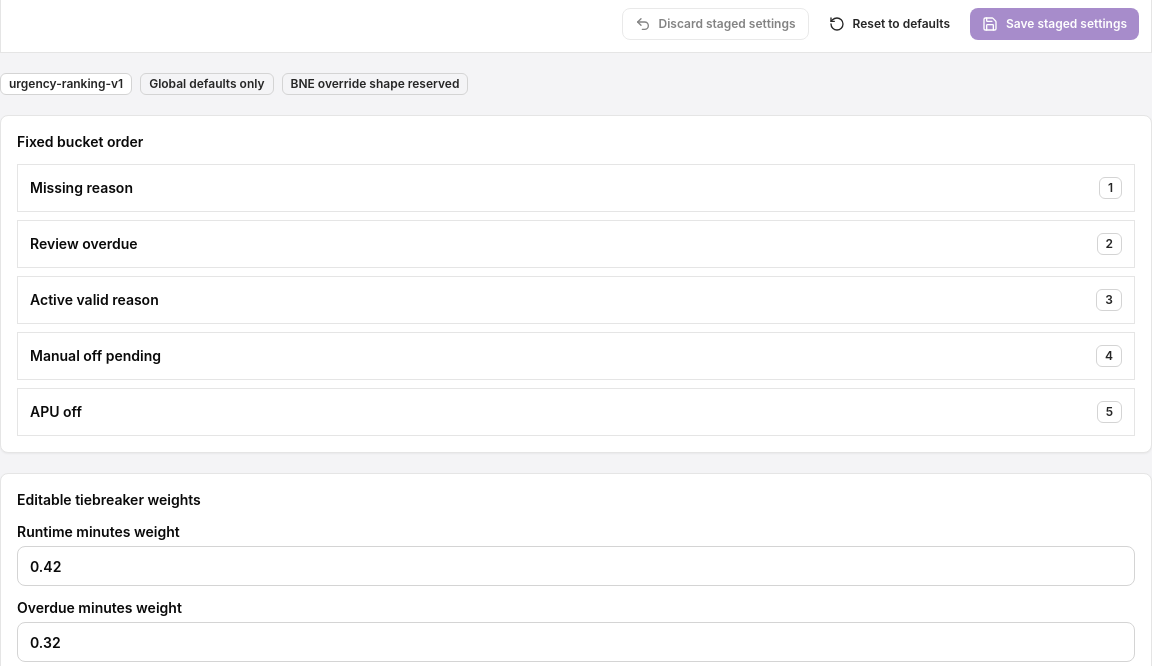
Test: UrgencySettingsPage › validates weights and resets defaults
Replace the text in the number field labelled "Runtime minutes weight" with "0": coordinates (576, 566) [17,546,1135,586]
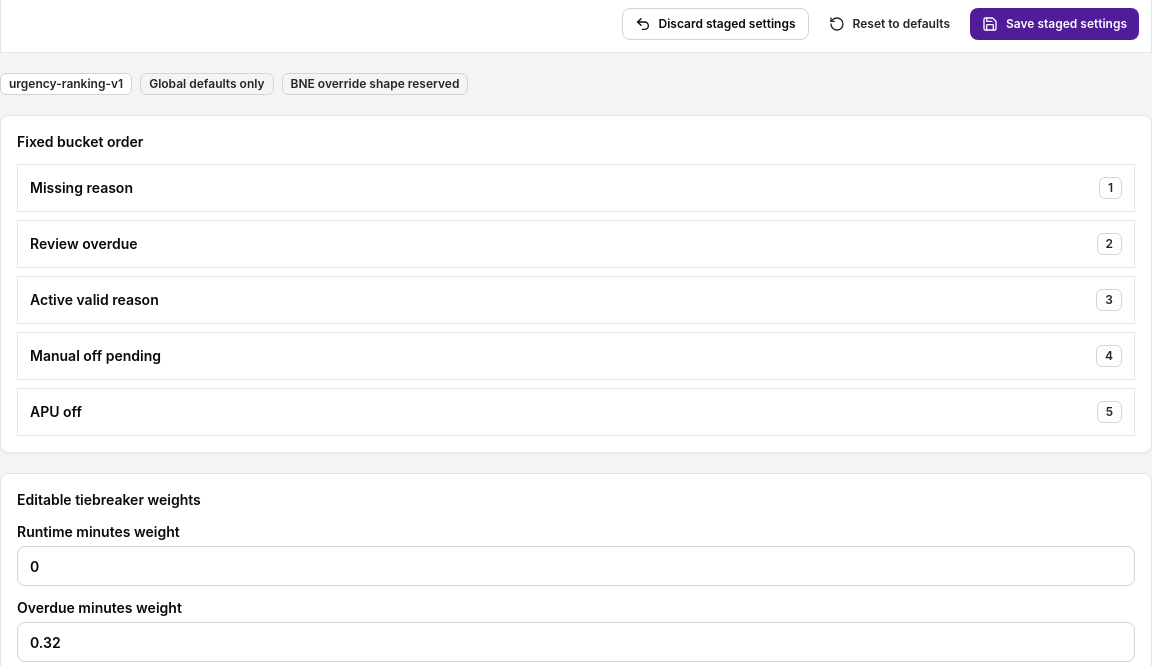
Replace the text in the number field labelled "Overdue minutes weight" with "0": coordinates (576, 642) [17,622,1135,662]
(page scrolled)
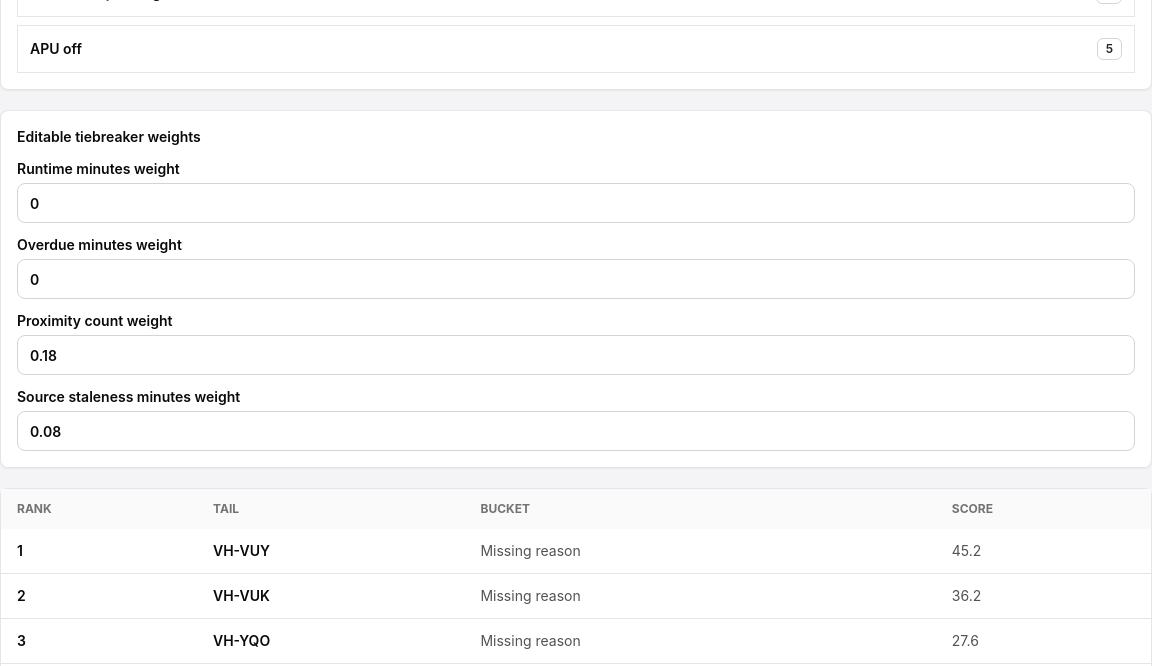
Replace the text in the number field labelled "Proximity count weight" with "0": coordinates (576, 355) [17,335,1135,375]
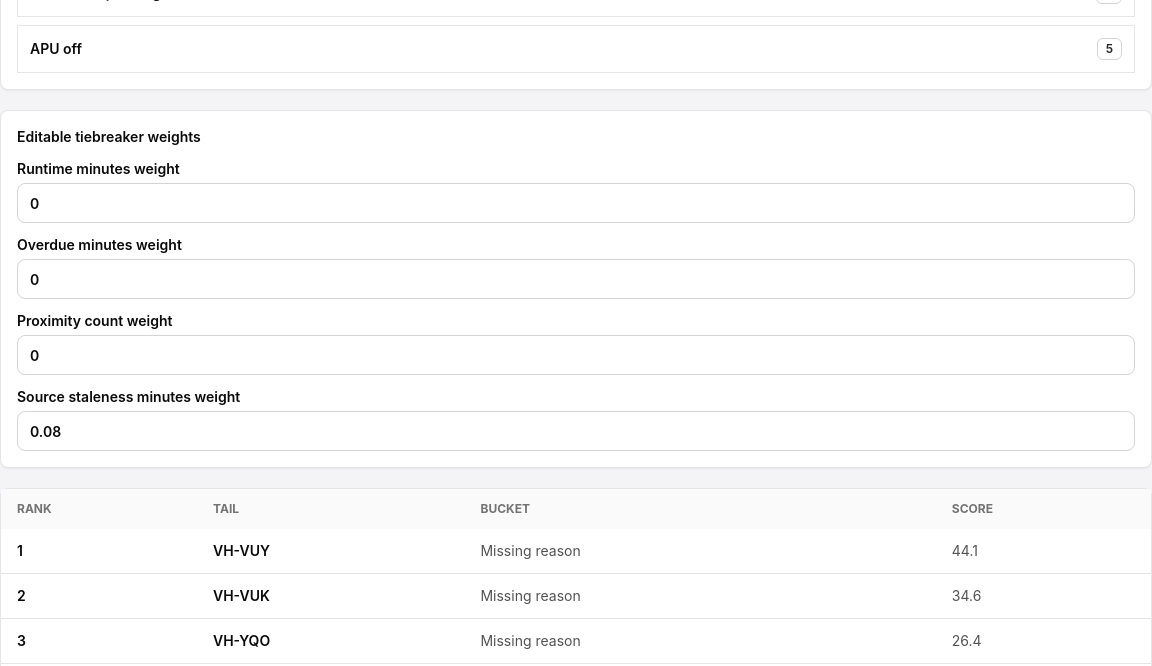
Replace the text in the number field labelled "Source staleness minutes weight" with "0": coordinates (576, 431) [17,411,1135,451]
(page scrolled)
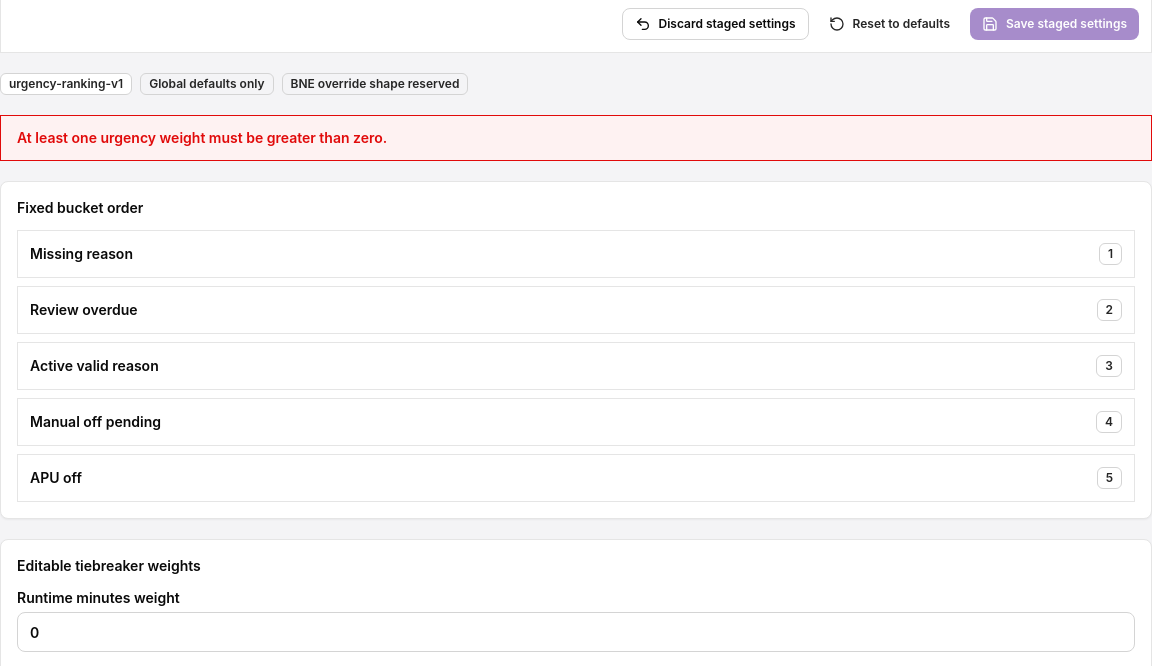
Expected: the text "At least one urgency weight must be greater than zero." is shown, [0,115,1151,161]
Expected: the button "Save staged settings" is disabled, [970,8,1139,40]
Click the button "Reset to defaults": coordinates (889, 24) [816,8,962,40]
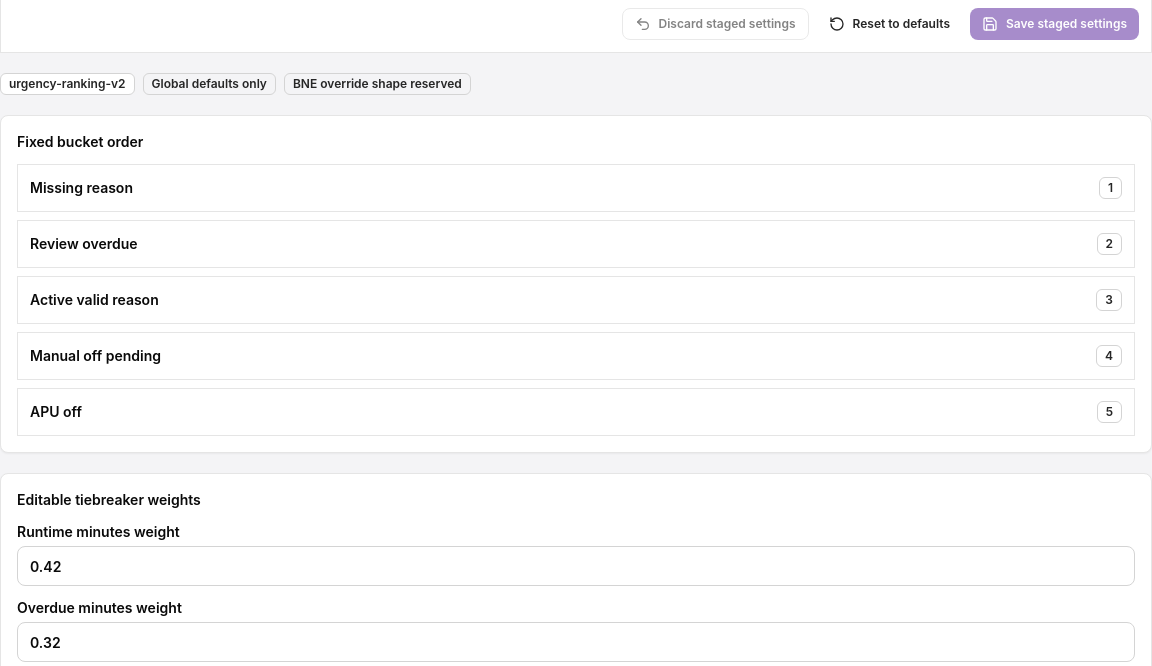
Expected: the number field labelled "Runtime minutes weight" holds "0.42", [17,546,1135,586]
Expected: the text "urgency-ranking-v2" is shown, [0,73,134,95]
